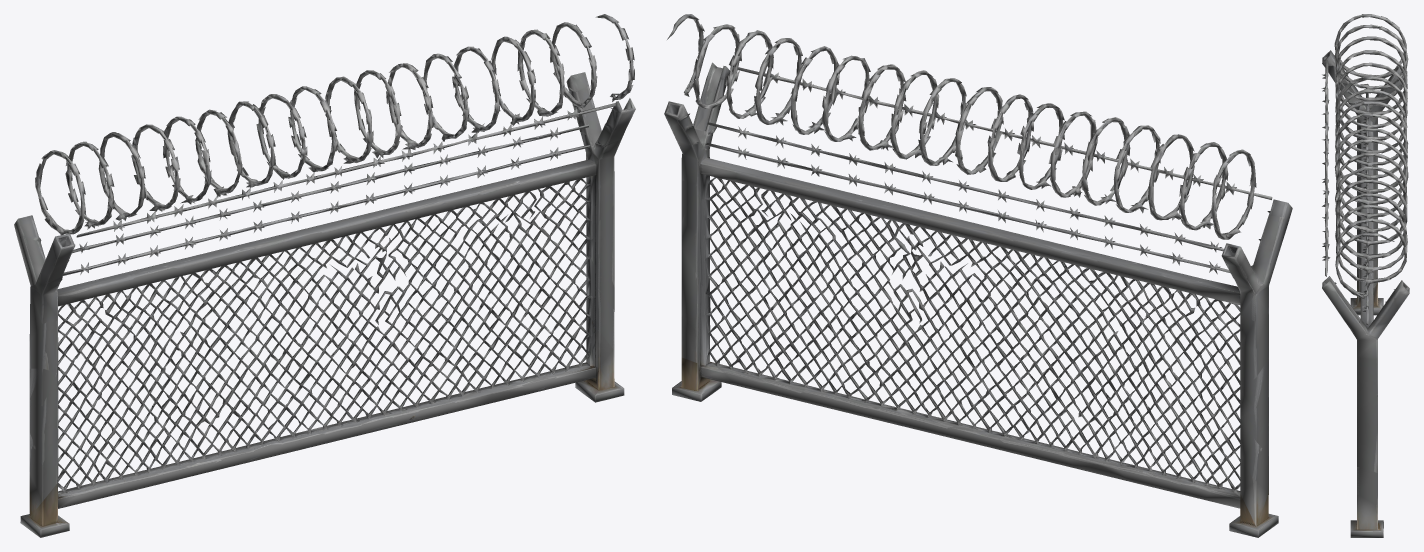
File: fence.glb
The picture shows the model from 3 angles, left to right: view 1: azimuth 30°, elevation 25°; view 2: azimuth 150°, elevation 25°; view 3: azimuth 270°, elevation 25°; orthographic projection. The views are drawn at different scales.
Visible parts, largest first — view 1: wall; view 2: wall; view 3: wall.
Boxes of the visible parts, x1=… form: wall: x1=14, y1=14, x2=635, y2=537; wall: x1=664, y1=14, x2=1292, y2=537; wall: x1=1321, y1=14, x2=1409, y2=537.
Bounding box in the file's own units: 3 × 1.81 × 0.4755.
1 material, 1 textured.
